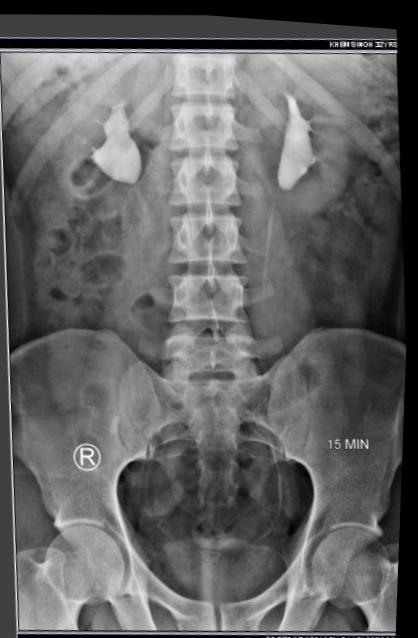left kidney: (246, 35, 369, 232)
right kidney: (37, 53, 157, 257)
vertebrae: (154, 69, 232, 137)
